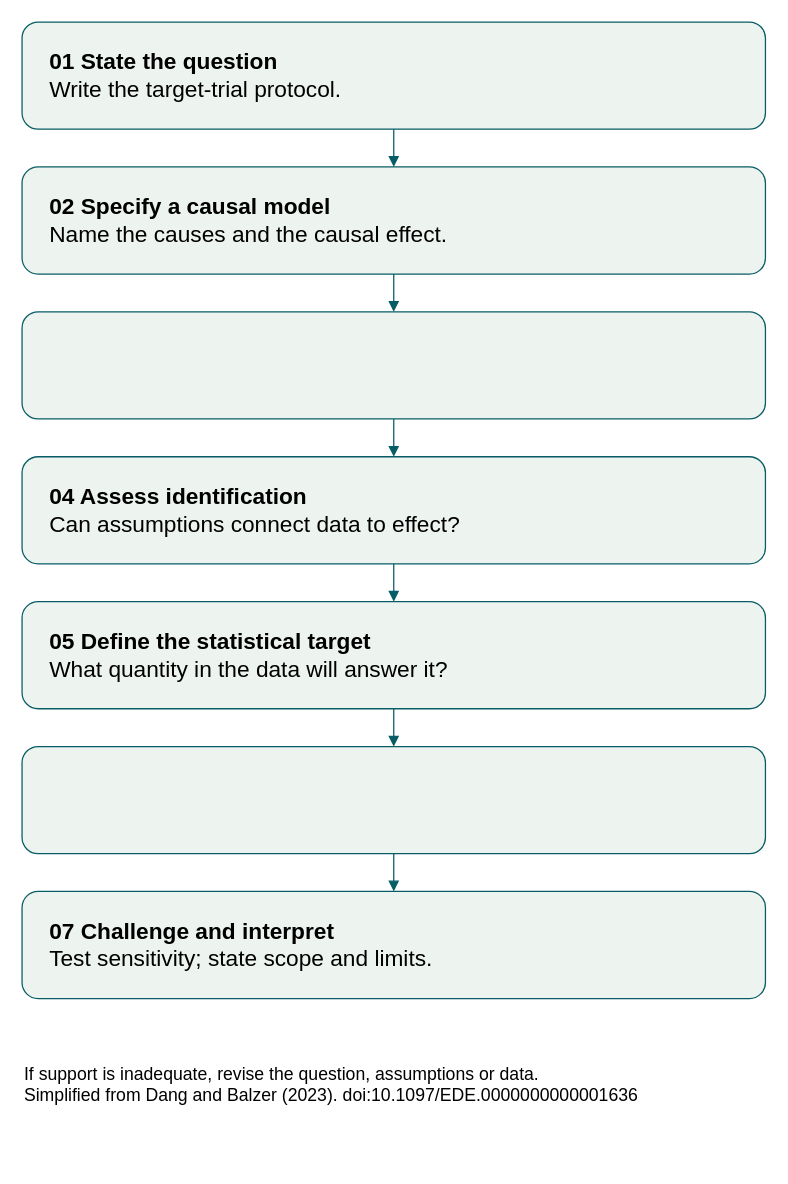
This 788x1184 diagram has some shape labels left out. Here are the shapes that lost their labels. From the top down, the centre of each, then its label:
At point (393, 365): "03 Examine the data What is observed, and what is missing?".
At point (393, 799): "06 Estimate with uncertainty Choose methods for that target.".
